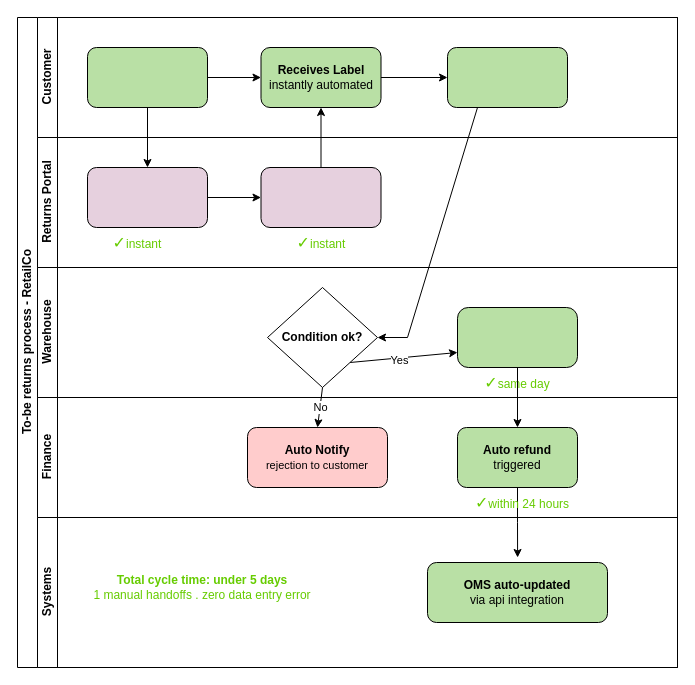
The diagram is 695 pixels wide and 685 high, and some of its shapes have lost their labels. The centre of each missing label's shape, as x and y in pixels:
Auto validates requests & logs: point 147,197
autogenerates returns label: point 320,197
Digital Checklist inspection: point 517,337
Ships item back using label: point 507,77
Submit Returns via self-service portal: point 147,77
